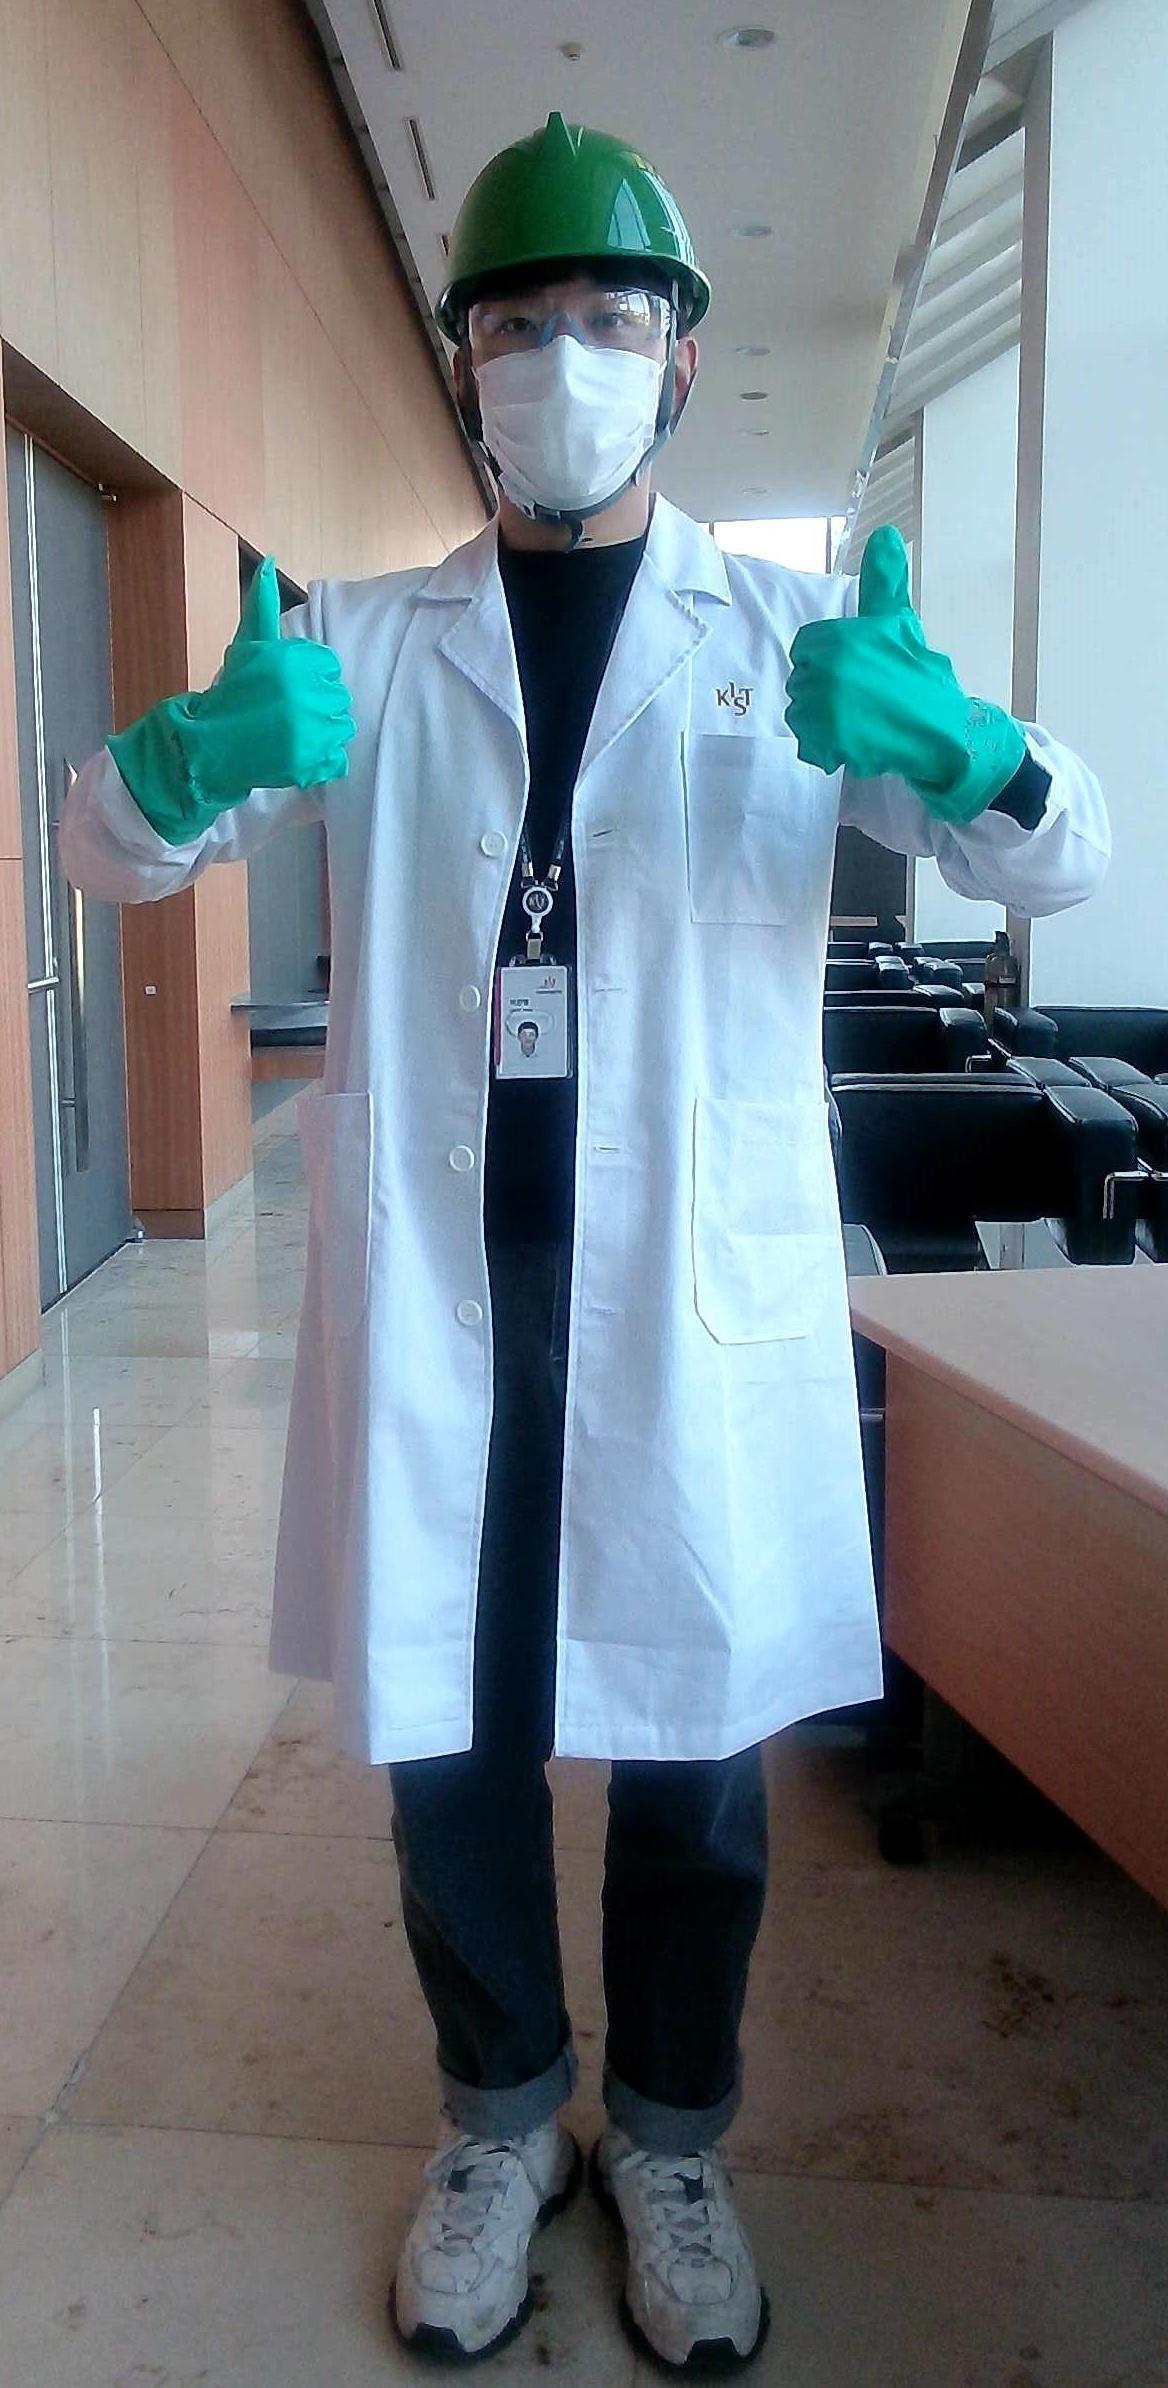lab_coat: (350, 586, 815, 1744)
